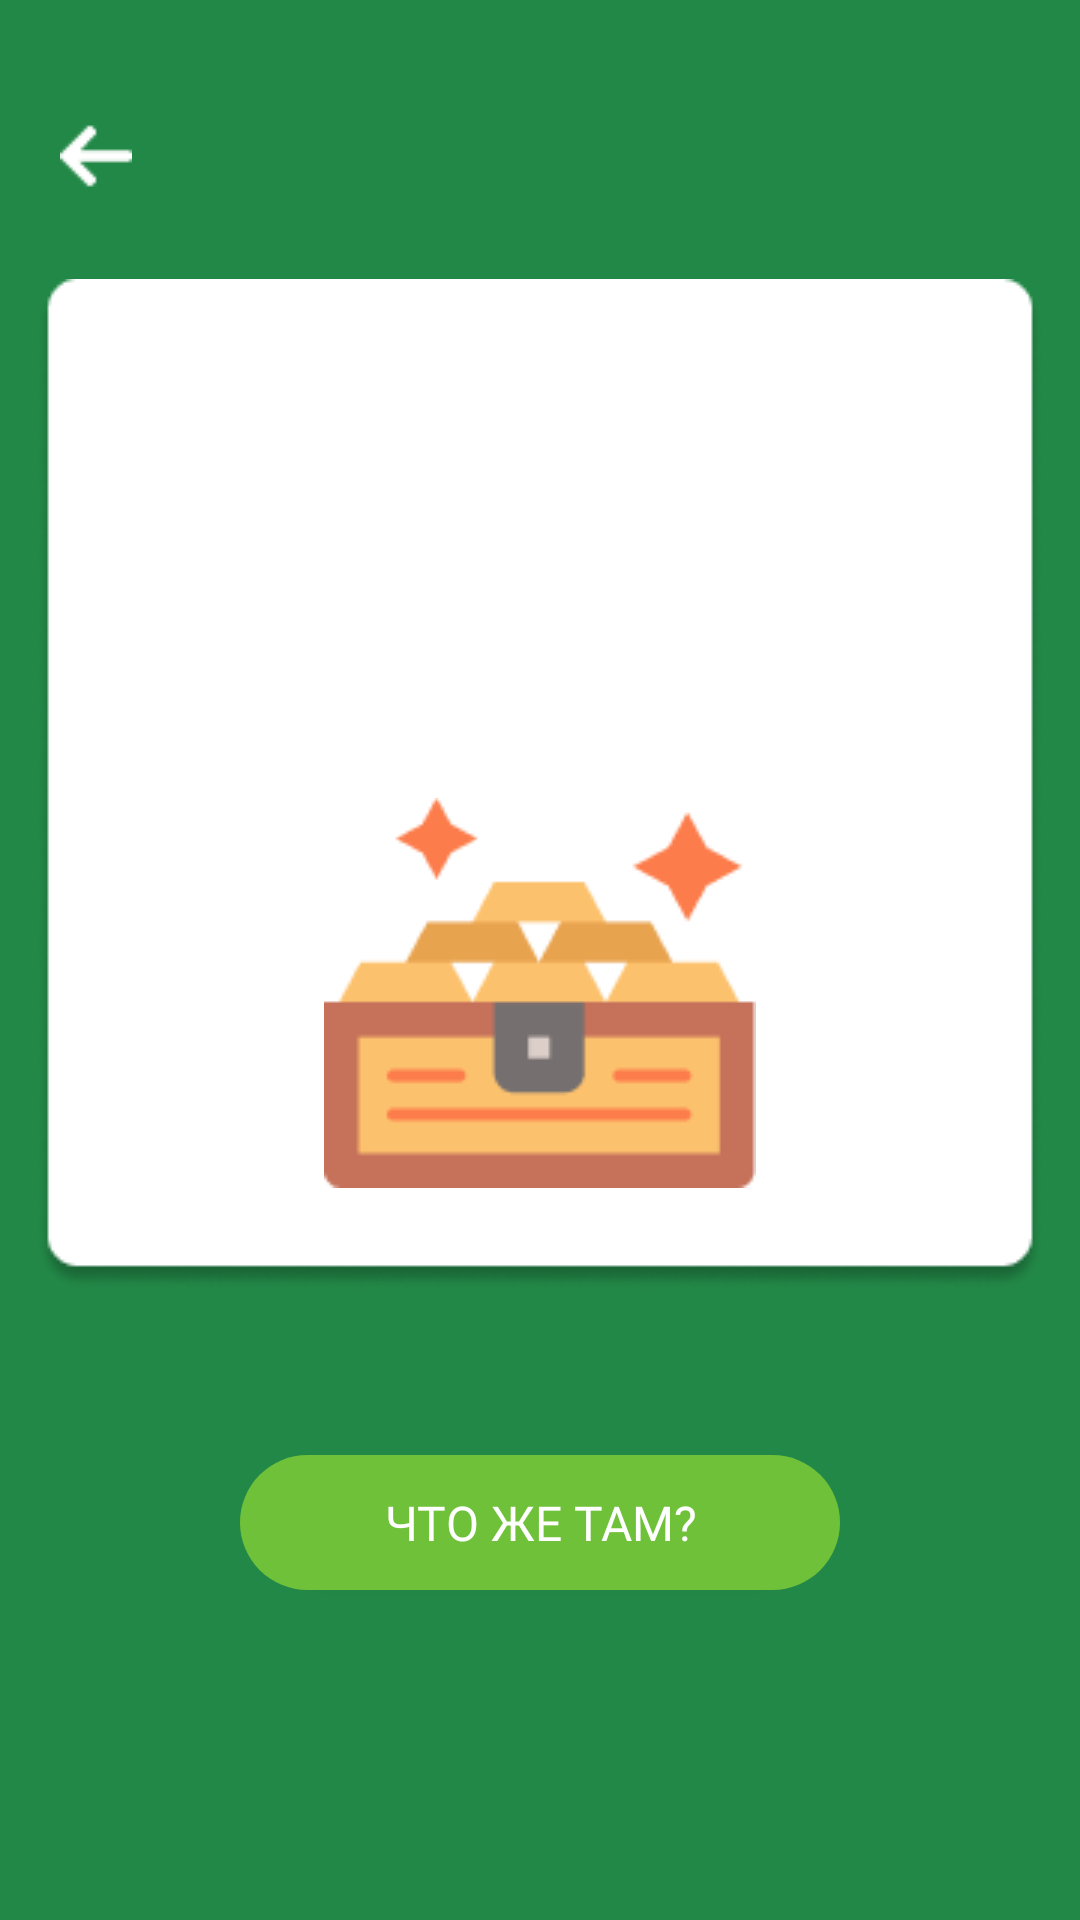

Screen size 1080×1920. Icon name, then its box in pixels as (x1, y1, x2, y2):
backbtn: (60, 125, 132, 187)
